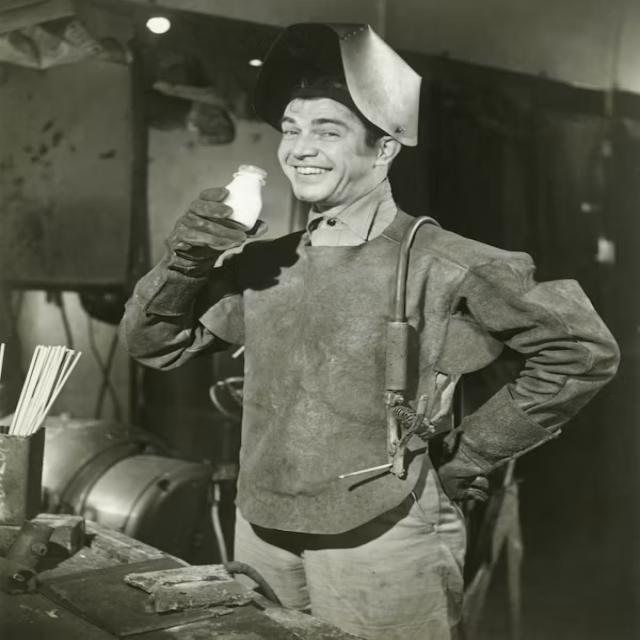helmet_lifted: (233, 18, 428, 220)
